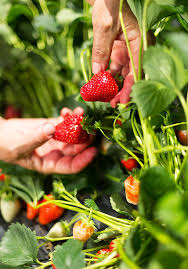ripe: (77, 66, 124, 104), (53, 104, 93, 147), (38, 194, 65, 224), (25, 190, 43, 223), (120, 148, 142, 172)
unripe: (73, 215, 96, 242), (47, 221, 66, 244), (6, 194, 19, 226)
